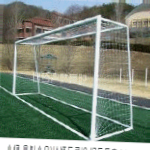goals: (11, 13, 135, 141)
